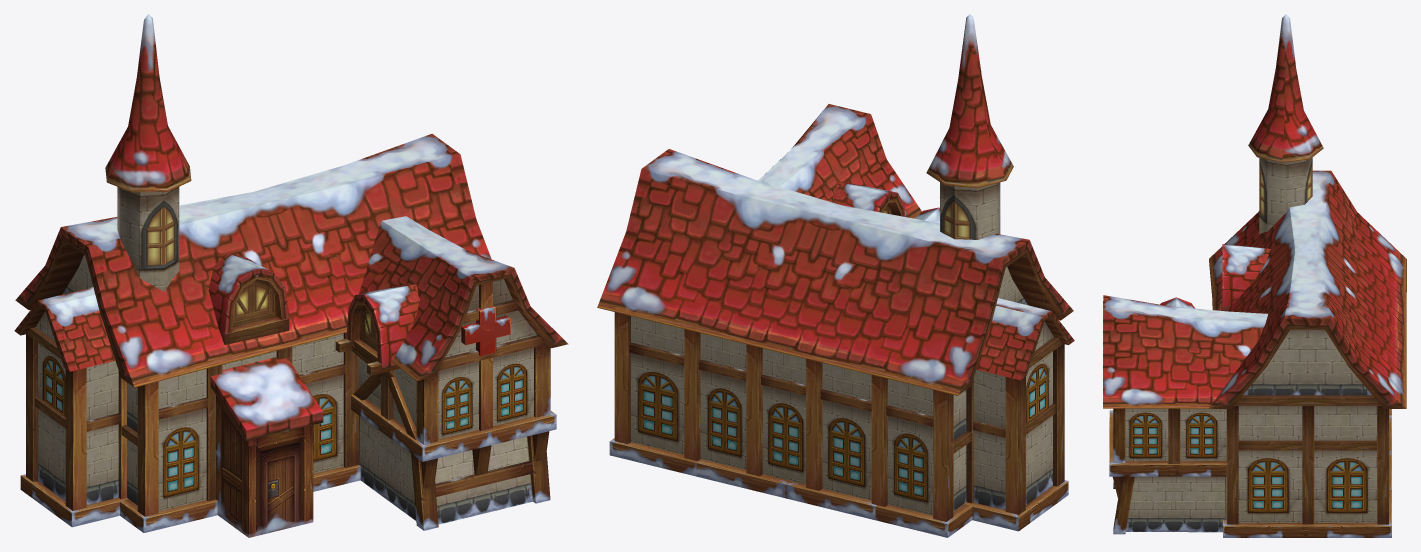
The model's file is FangZi03.FBX.
3 views of the same model, side by side, from view 1: azimuth 30°, elevation 25°; view 2: azimuth 150°, elevation 25°; view 3: azimuth 270°, elevation 25° (orthographic). The views are drawn at different scales.
Visible parts, largest first — view 1: FangZi03; view 2: FangZi03; view 3: FangZi03.
Part boxes in pixels (box(x1,y1,x2,y2)): FangZi03: box(14, 14, 568, 537); FangZi03: box(597, 14, 1074, 537); FangZi03: box(1103, 14, 1406, 537).
Bounding box in the file's own units: 296 × 338 × 233.
